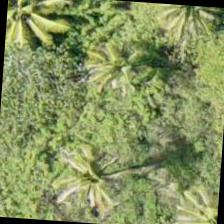Kelapa_Sawit: (4, 0, 70, 53)
